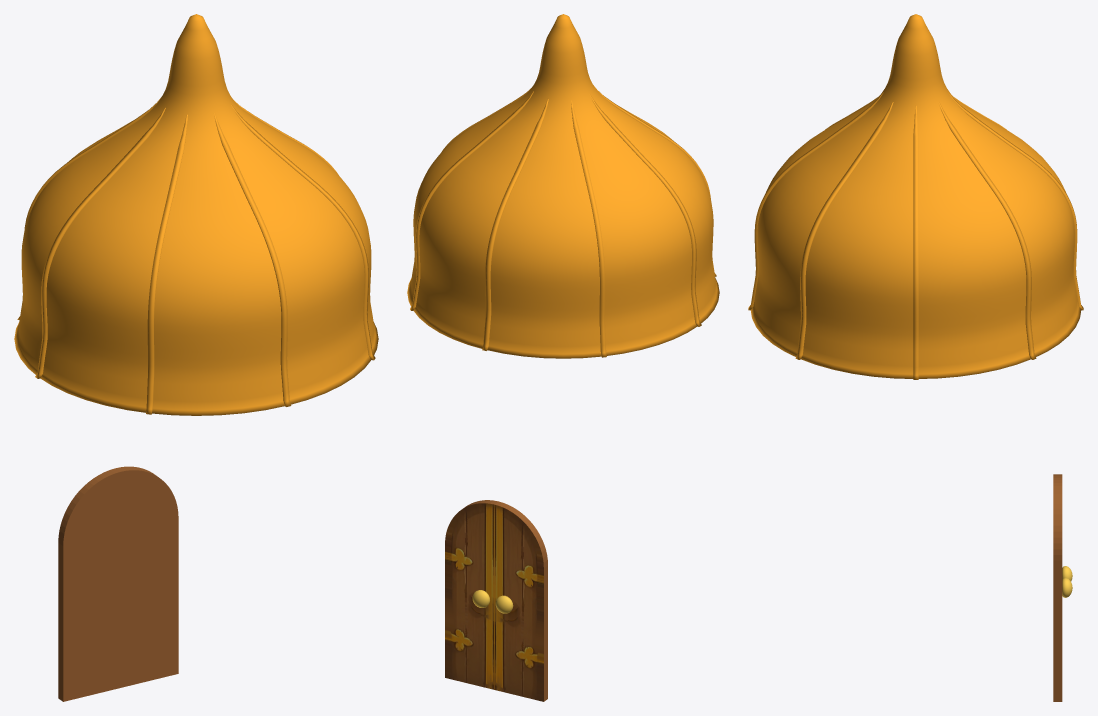
The model's file is HaloDomeHouse_04_deco.glb.
The picture shows the model from 3 angles, left to right: view 1: azimuth 30°, elevation 25°; view 2: azimuth 150°, elevation 25°; view 3: azimuth 270°, elevation 25°; orthographic projection. The views are drawn at different scales.
Visible parts, largest first — view 1: HaloDomeHouse_04_Dome, HaloDomeHouse_04_Leaf0, HaloDomeHouse_04_Leaf1, HaloDomeHouse_04_DomeRibs; view 2: HaloDomeHouse_04_Dome, HaloDomeHouse_04_Leaf0, HaloDomeHouse_04_Leaf1, HaloDomeHouse_04_DomeRibs; view 3: HaloDomeHouse_04_Dome, HaloDomeHouse_04_DomeRibs, HaloDomeHouse_04_Leaf1.
Boxes of the visible parts, box(x1,y1,x2,y2) form: HaloDomeHouse_04_Dome: box(14, 14, 378, 415); HaloDomeHouse_04_Leaf0: box(58, 468, 120, 701); HaloDomeHouse_04_Leaf1: box(116, 466, 178, 687); HaloDomeHouse_04_DomeRibs: box(17, 98, 375, 414); HaloDomeHouse_04_Dome: box(407, 14, 719, 358); HaloDomeHouse_04_Leaf0: box(494, 501, 547, 701); HaloDomeHouse_04_Leaf1: box(445, 500, 498, 689); HaloDomeHouse_04_DomeRibs: box(410, 85, 716, 357); HaloDomeHouse_04_Dome: box(750, 14, 1081, 378); HaloDomeHouse_04_DomeRibs: box(748, 92, 1083, 379); HaloDomeHouse_04_Leaf1: box(1053, 480, 1062, 701).
Bounding box in the file's own units: 11.93 × 25.98 × 11.93.
3 materials, 1 textured.
